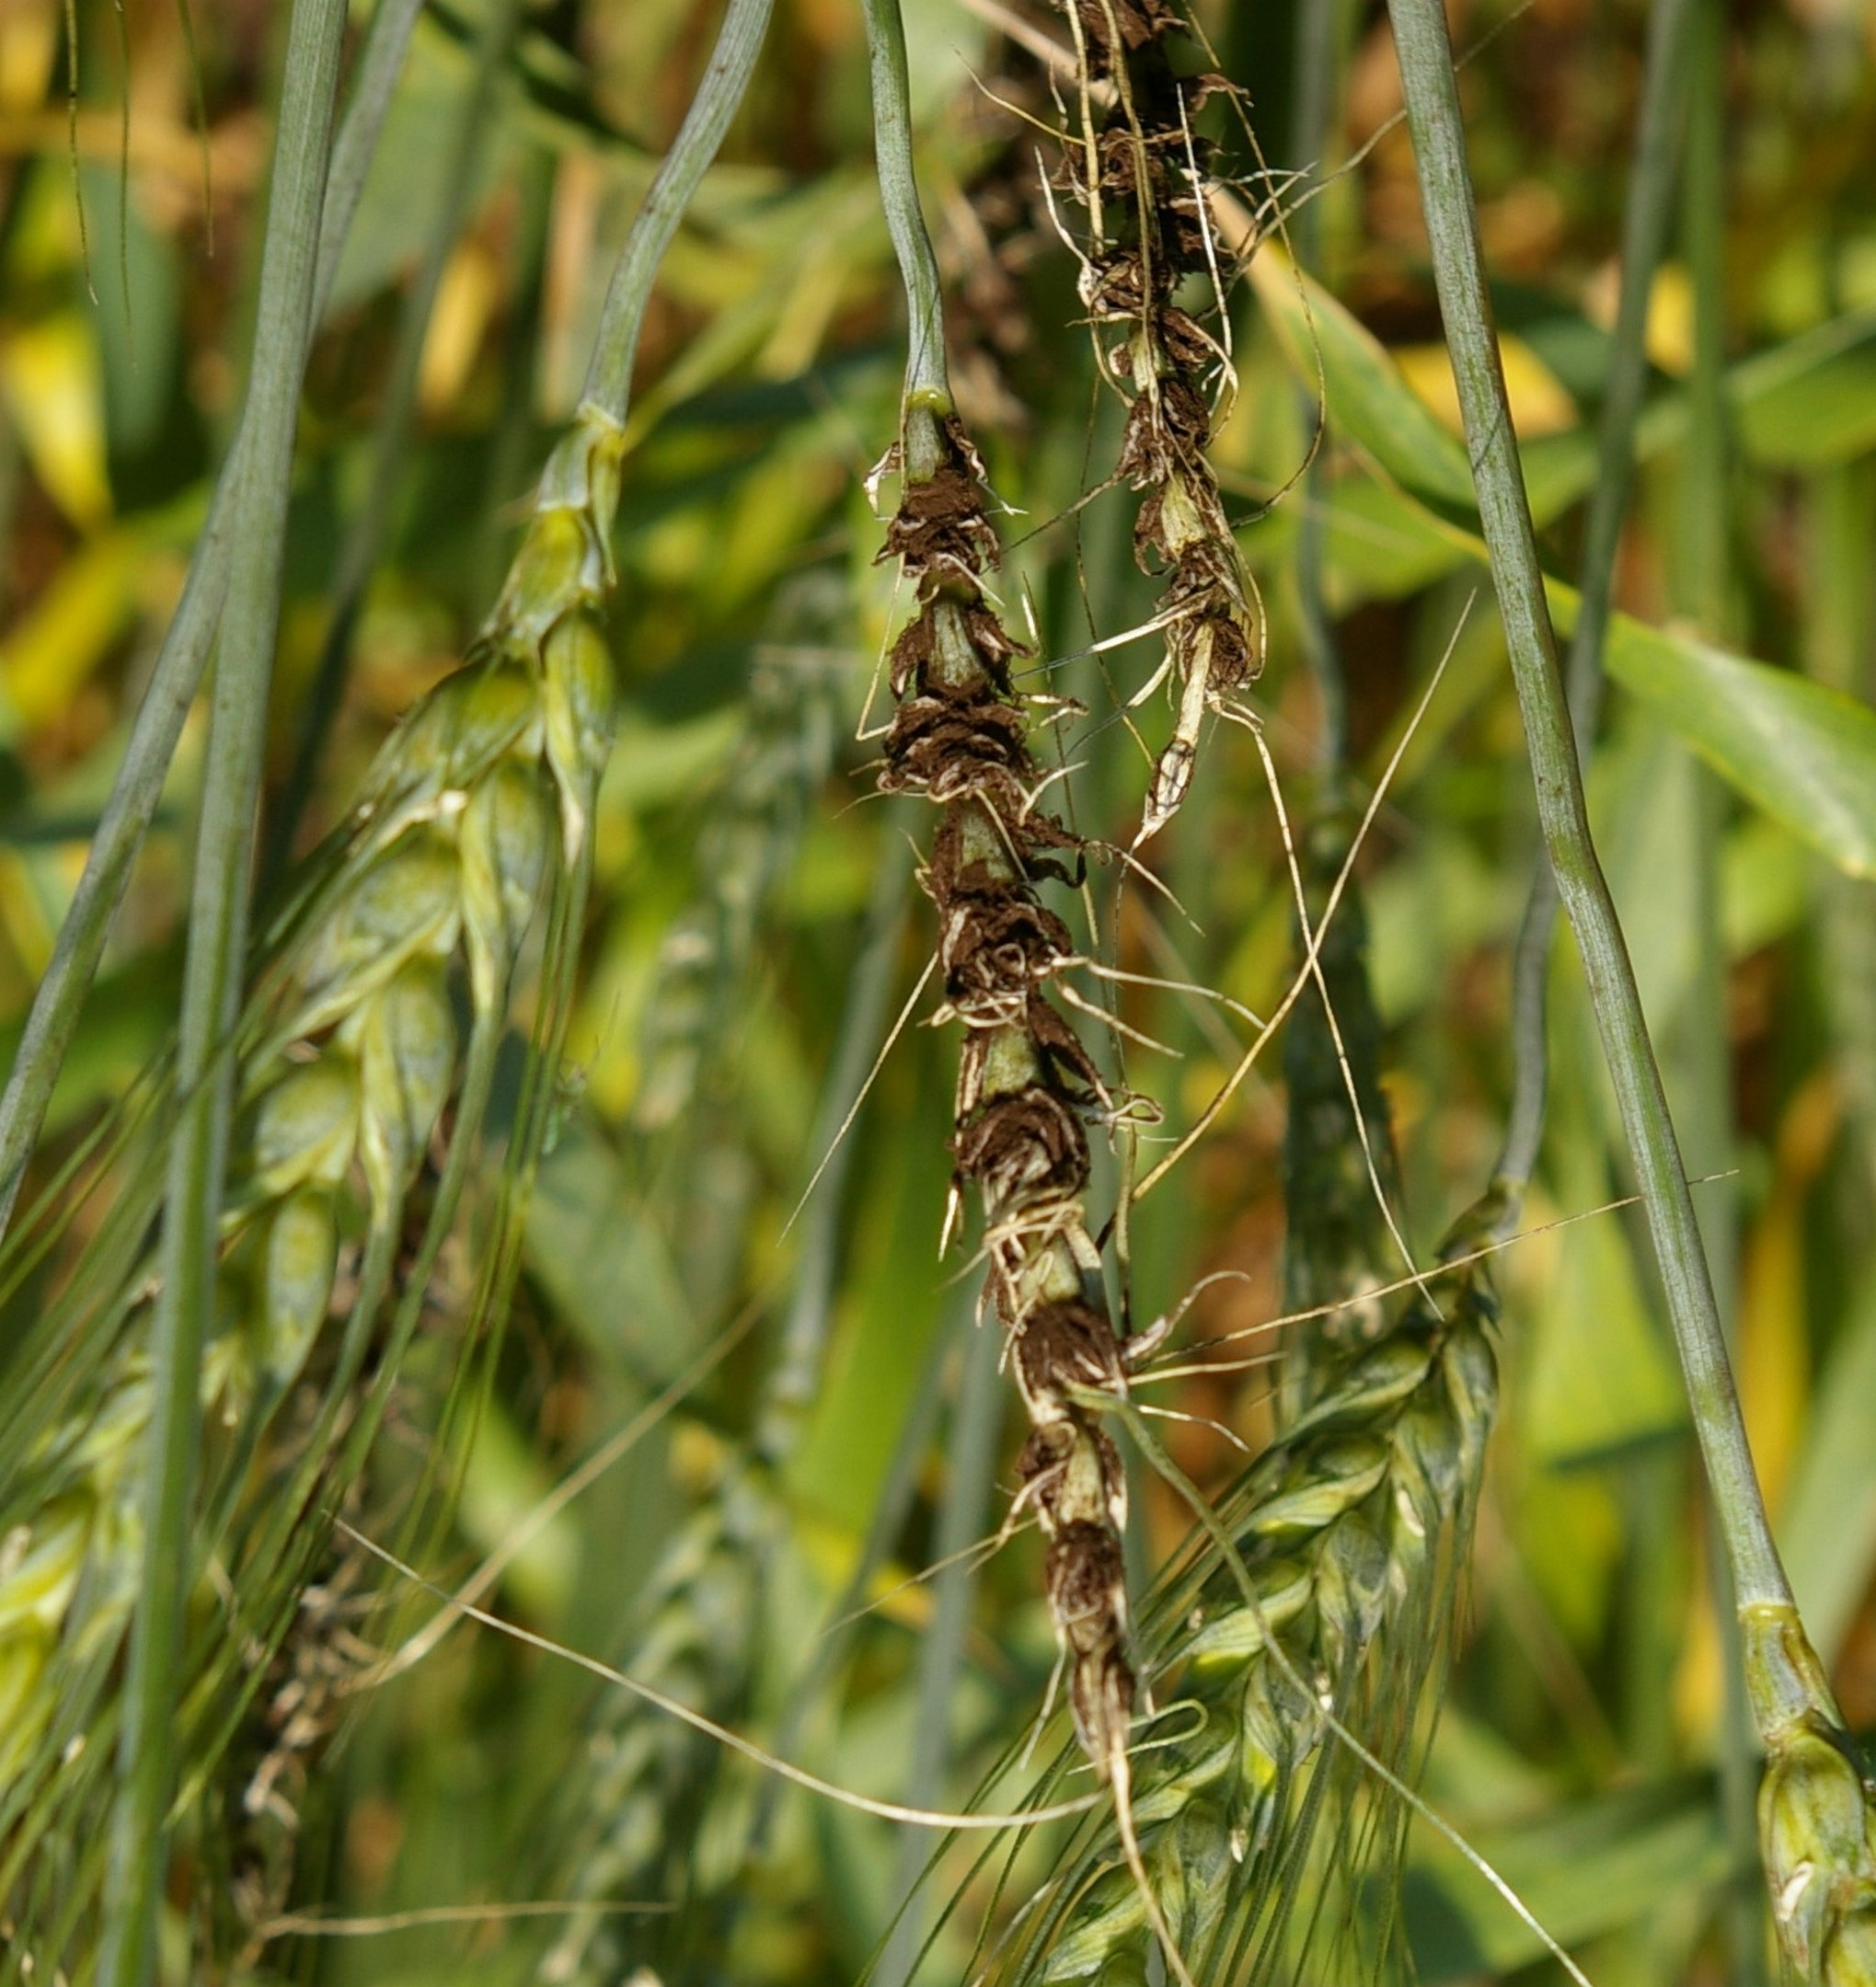Wheat Loose Smut: (857, 462, 1148, 1756), (1047, 16, 1352, 695)
